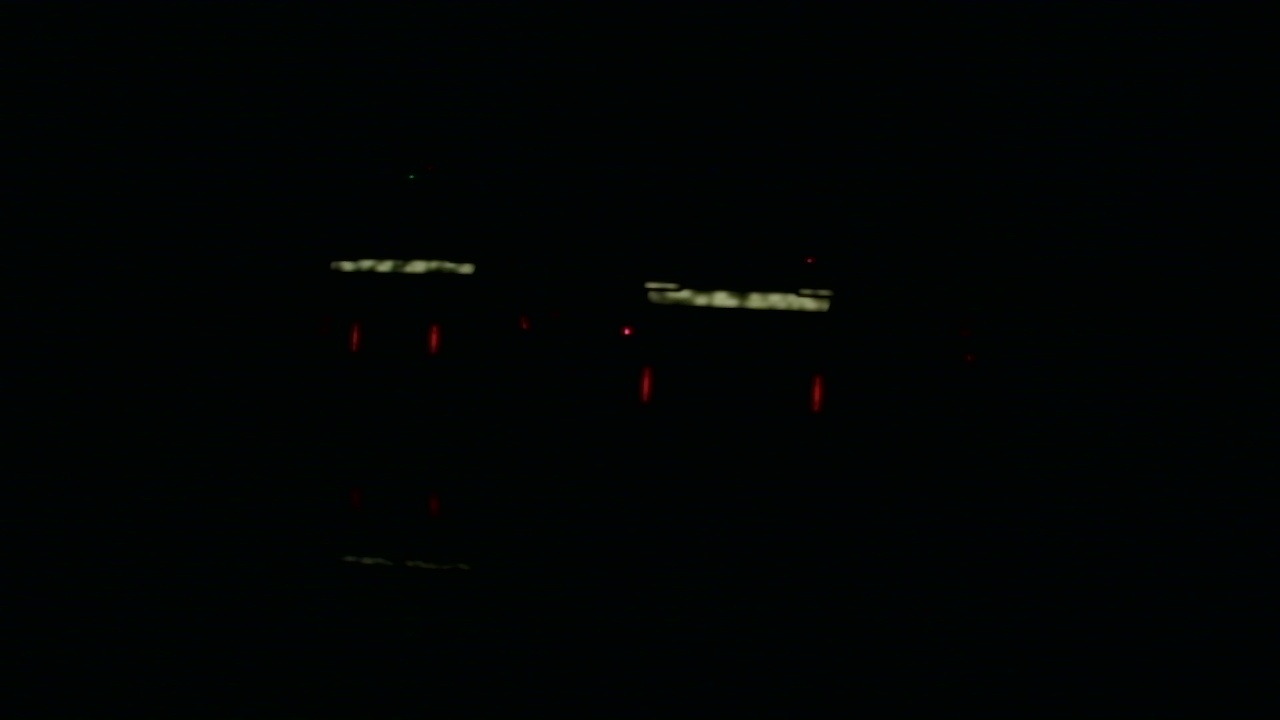lamp: (641, 364, 650, 405), (811, 372, 821, 406), (350, 321, 360, 352), (429, 321, 439, 350)
pair1: (350, 323, 438, 351)
pair2: (641, 367, 821, 416)
